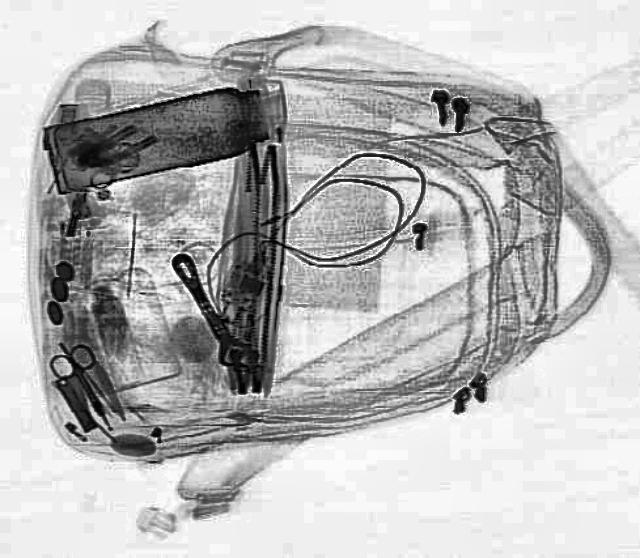Scissors: (42, 340, 128, 424)
